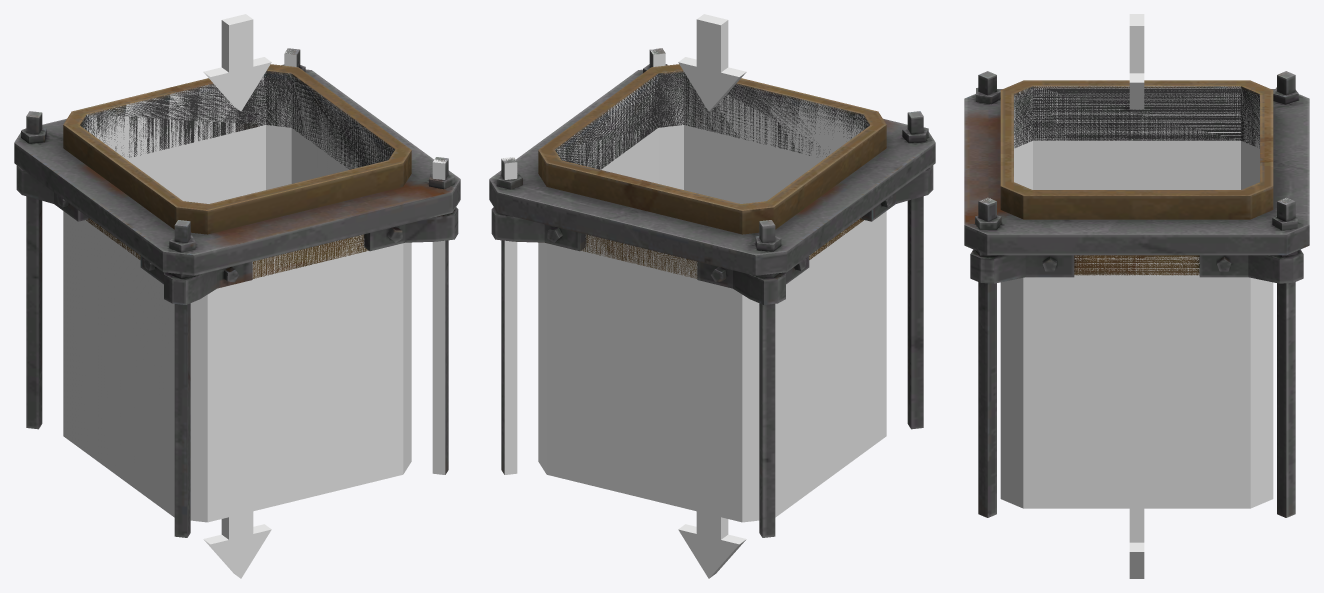
The model's file is Cage_Chute.glb.
The picture shows the model from 3 angles, left to right: view 1: azimuth 30°, elevation 25°; view 2: azimuth 150°, elevation 25°; view 3: azimuth 270°, elevation 25°; orthographic projection.
Visible parts, largest first — view 1: Cage_Chute_Col, Cage_Chute, ghostarrow, ghostarrow (1); view 2: Cage_Chute_Col, Cage_Chute, ghostarrow, ghostarrow (1); view 3: Cage_Chute_Col, Cage_Chute, ghostarrow, ghostarrow (1).
Boxes of the visible parts, box(x1,y1,x2,y2) form: Cage_Chute_Col: box(63, 48, 447, 522); Cage_Chute: box(14, 48, 460, 537); ghostarrow: box(203, 14, 271, 111); ghostarrow (1): box(203, 511, 271, 578); Cage_Chute_Col: box(501, 49, 886, 522); Cage_Chute: box(489, 48, 935, 537); ghostarrow: box(678, 14, 746, 111); ghostarrow (1): box(678, 511, 746, 578); Cage_Chute_Col: box(981, 86, 1286, 508); Cage_Chute: box(964, 71, 1309, 517); ghostarrow: box(1129, 14, 1144, 109); ghostarrow (1): box(1129, 508, 1144, 578).
Bounding box in the file's own units: 1 × 1.79 × 1.
4 materials, 2 textured.
